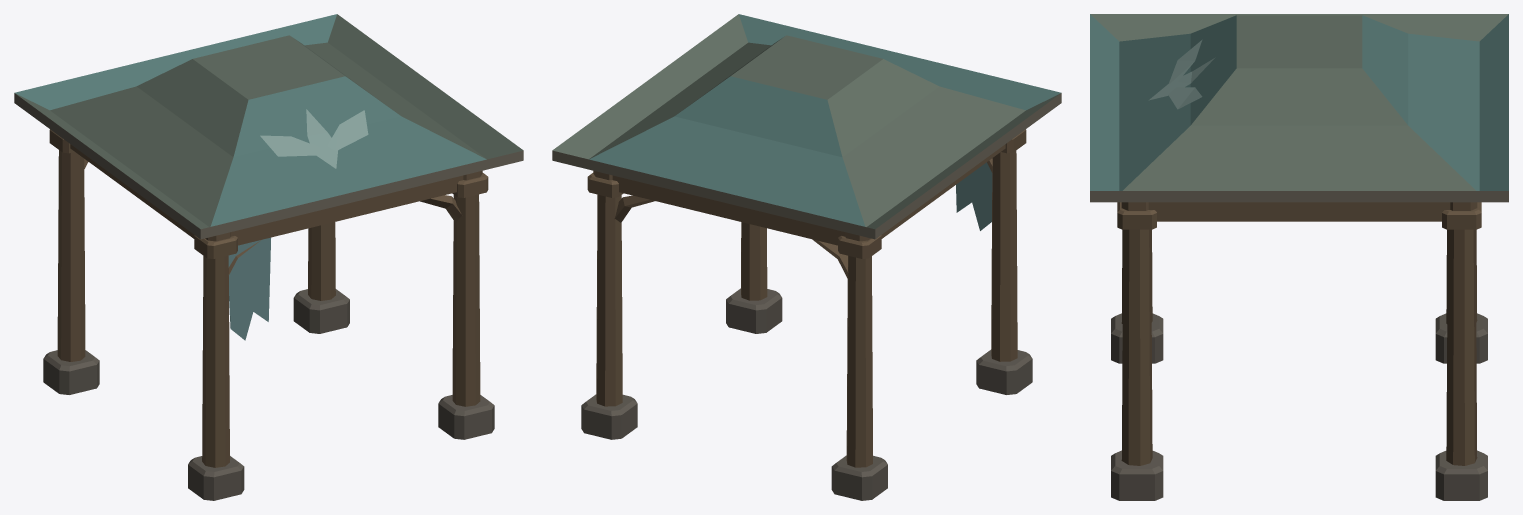
File: pavilion_small.glb
3 renders of one model, left to right at view 1: azimuth 30°, elevation 25°; view 2: azimuth 150°, elevation 25°; view 3: azimuth 270°, elevation 25°, orthographic. The views are drawn at different scales.
Visible parts, largest first — view 1: Body_pavilion_small.001; view 2: Body_pavilion_small.001; view 3: Body_pavilion_small.001.
Boxes of the visible parts, x1,y1,x2,y2 form: Body_pavilion_small.001: [14, 14, 523, 500]; Body_pavilion_small.001: [552, 14, 1061, 500]; Body_pavilion_small.001: [1090, 14, 1508, 500].
Bounding box in the file's own units: 4 × 4 × 4.
